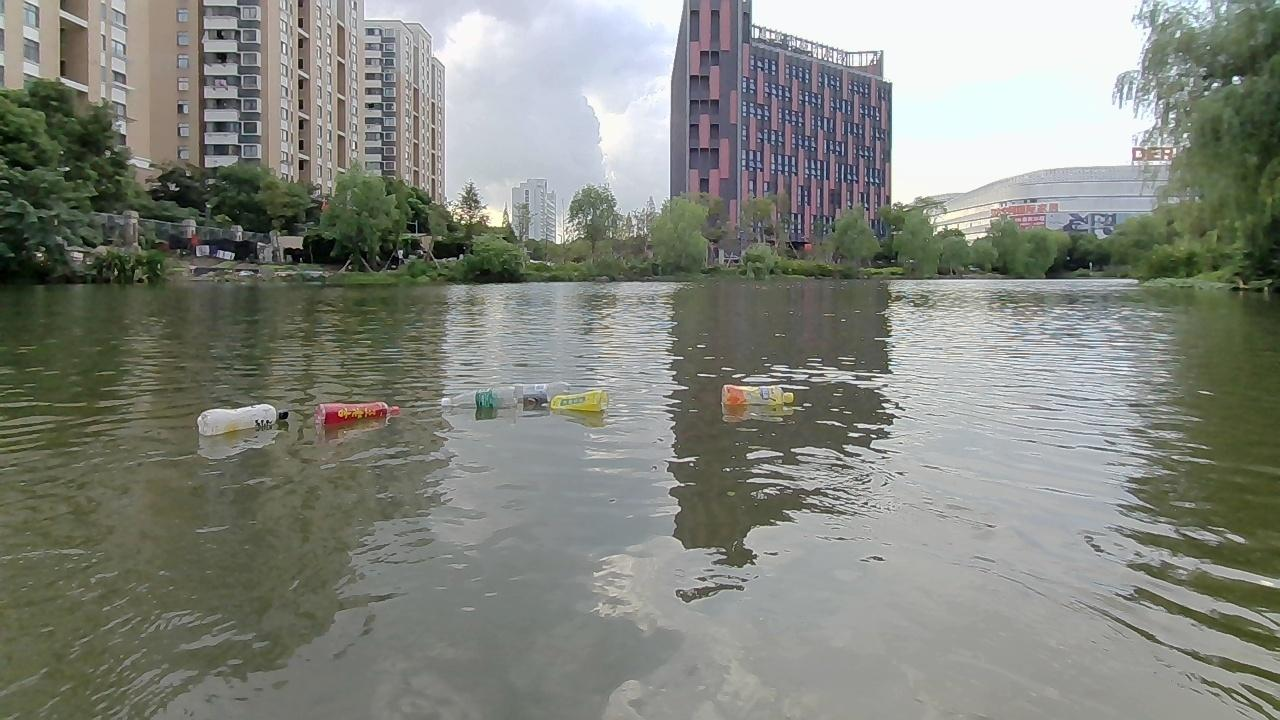bottle: (316, 401, 402, 436), (192, 406, 286, 435), (719, 377, 796, 408), (440, 386, 514, 418), (541, 386, 610, 420), (495, 377, 571, 404)
